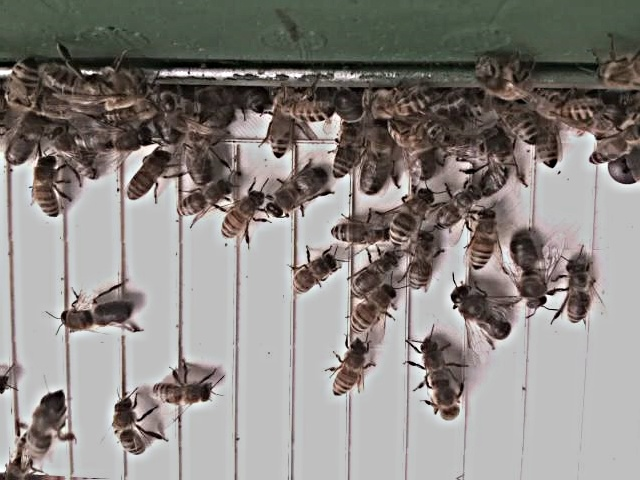Drone: (445, 285, 511, 343), (262, 165, 329, 220), (506, 231, 550, 313), (55, 293, 137, 337), (357, 120, 390, 201)
Worker: (385, 185, 432, 250), (121, 147, 170, 205), (218, 188, 267, 243), (347, 252, 402, 300), (172, 178, 230, 223), (346, 288, 398, 338), (328, 341, 370, 401), (466, 206, 501, 276), (561, 253, 593, 329), (107, 395, 146, 456), (423, 367, 462, 424), (29, 153, 61, 221), (144, 378, 214, 408), (329, 118, 360, 183), (326, 220, 387, 250), (407, 231, 436, 293), (267, 102, 293, 161)
